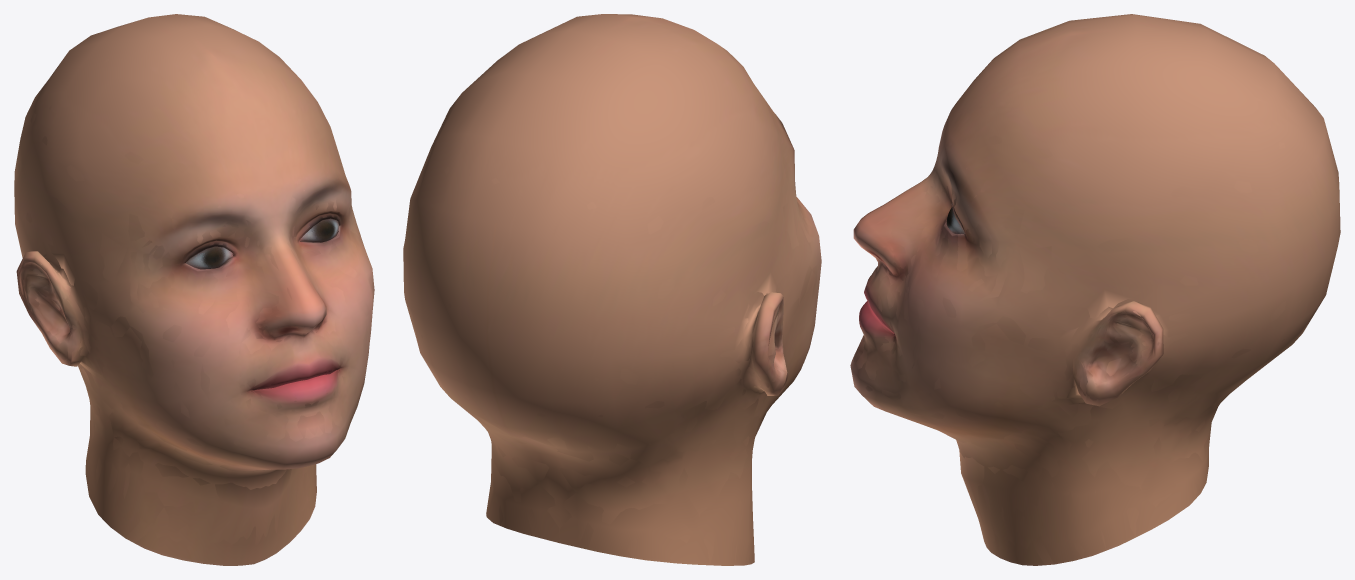
The model's file is RandomFemale.obj.
3 renders of one model, left to right at view 1: azimuth 30°, elevation 25°; view 2: azimuth 150°, elevation 25°; view 3: azimuth 270°, elevation 25°, orthographic. The views are drawn at different scales.
Visible parts, largest first — view 1: skin_med, skin_hi, eyeR_hi, eyeL_hi; view 2: skin_med, skin_hi; view 3: skin_med, skin_hi.
Part boxes in pixels (<box>): skin_med: <box>14,14,374,565</box>; skin_hi: <box>17,56,372,565</box>; eyeR_hi: <box>186,246,232,269</box>; eyeL_hi: <box>299,218,339,242</box>; skin_med: <box>403,14,821,565</box>; skin_hi: <box>407,55,817,564</box>; skin_med: <box>850,14,1340,565</box>; skin_hi: <box>854,73,1334,565</box>.
Size of the model in its own units: 192 by 282 by 244.
Materials: 8 (8 with a texture image).
